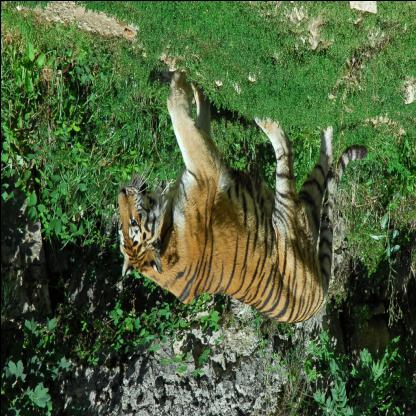tiger: (113, 175, 165, 276)
